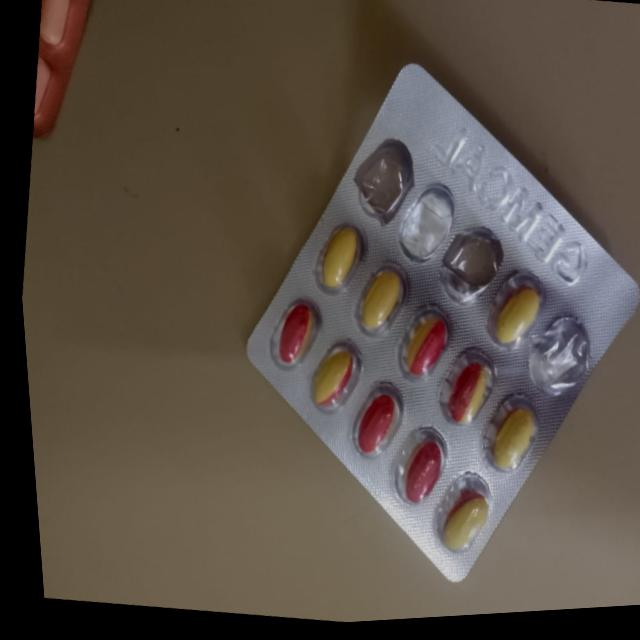medicine: (220, 40, 640, 615)
